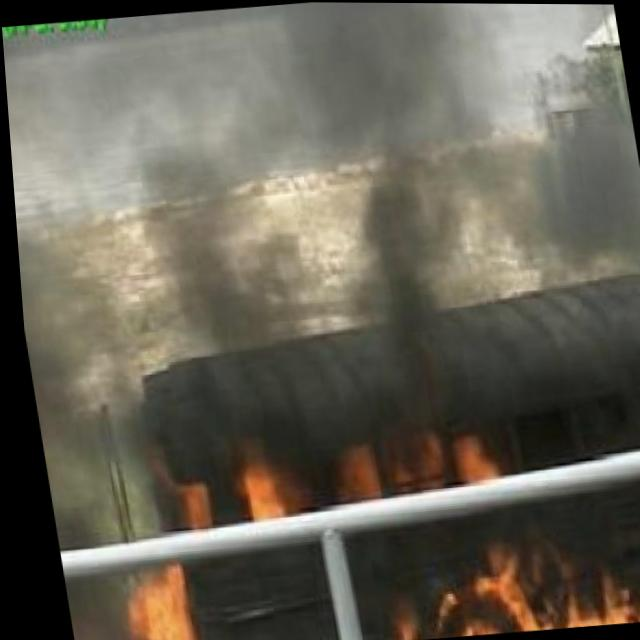Fire: (347, 515, 640, 640), (170, 437, 488, 516), (56, 580, 213, 640)
